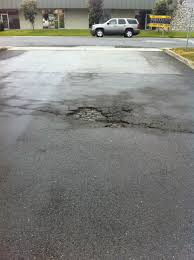pothole: (64, 102, 107, 120), (108, 119, 138, 131)
